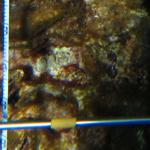dead: (13, 1, 147, 113)
